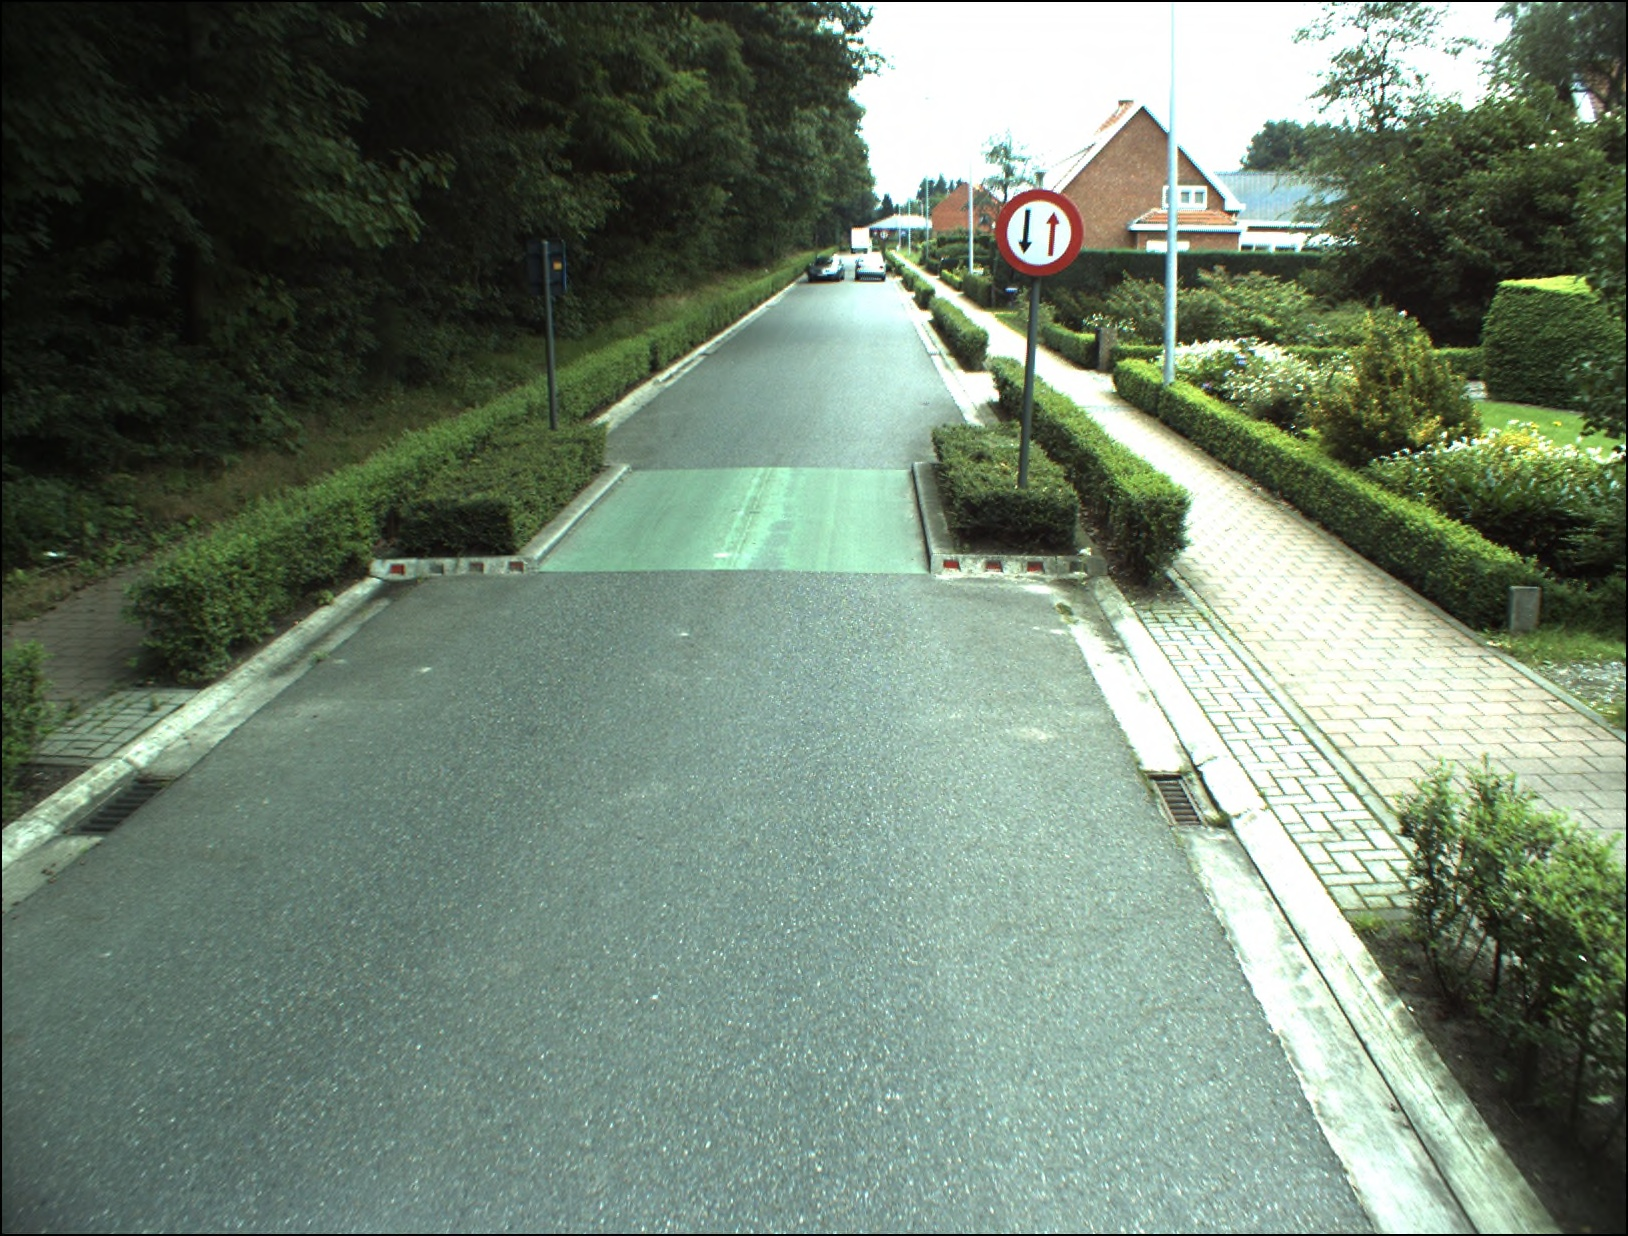roadnarrow2: (988, 190, 1081, 277)
